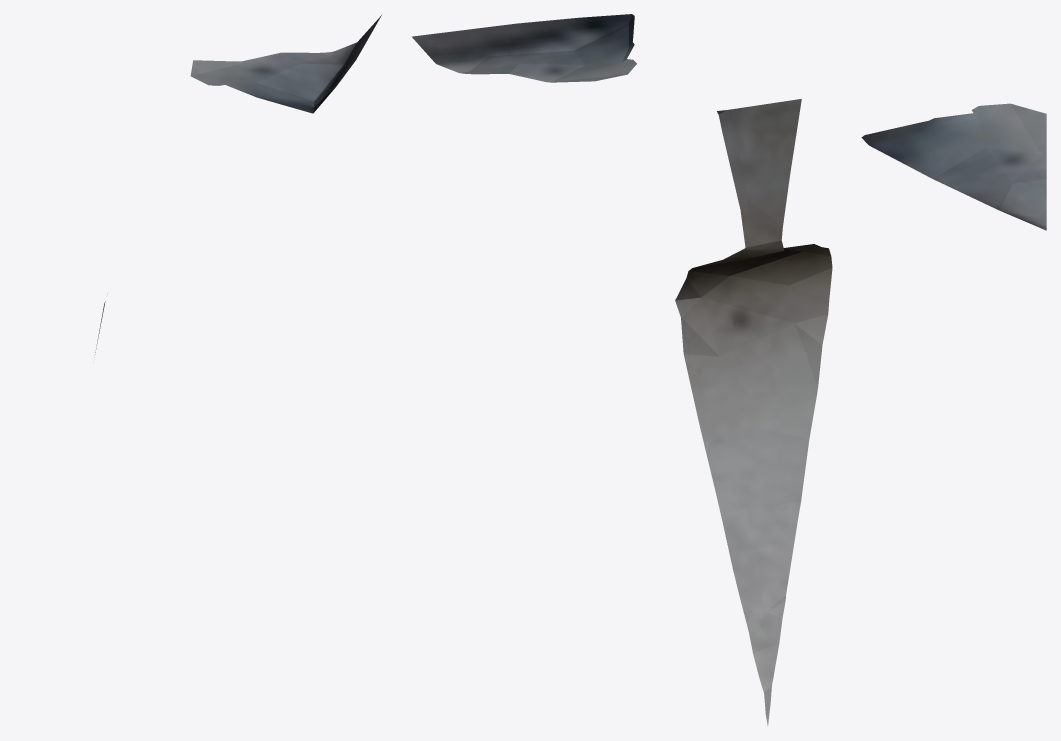
3 renders of one model, left to right at view 1: azimuth 30°, elevation 25°; view 2: azimuth 150°, elevation 25°; view 3: azimuth 270°, elevation 25°, orthographic. The views are drawn at different scales.
Size of the model in its own units: 0.2778 by 0.4492 by 0.1057.
1 material, 1 textured.
